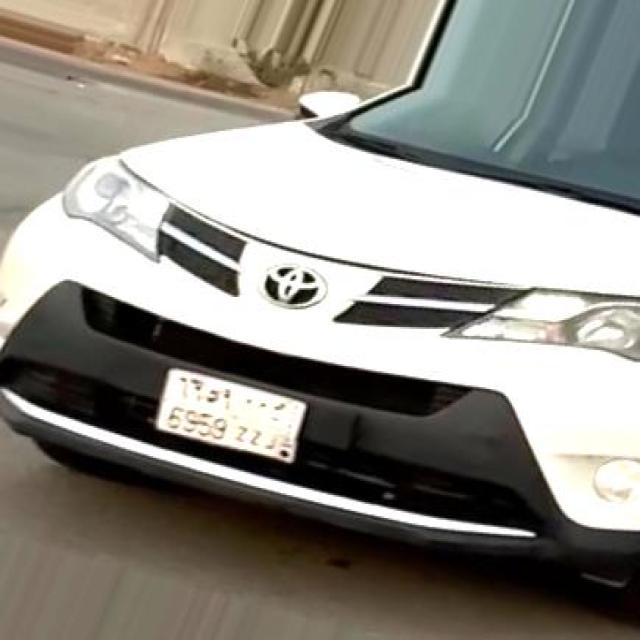Car-plate: (143, 338, 321, 482)
